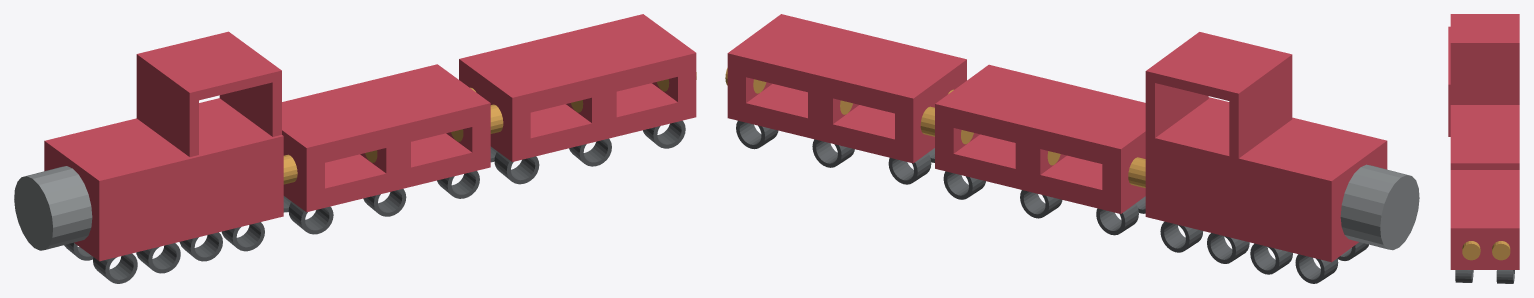
Rendered from Train.glb.
The picture shows the model from 3 angles, left to right: view 1: azimuth 30°, elevation 25°; view 2: azimuth 150°, elevation 25°; view 3: azimuth 270°, elevation 25°; orthographic projection. The views are drawn at different scales.
Parts seen in each view (by area): view 1: Mesh_Mesh_head_geo.001_lambert2SG.001; view 2: Mesh_Mesh_head_geo.001_lambert2SG.001; view 3: Mesh_Mesh_head_geo.001_lambert2SG.001.
Part boxes in pixels (box(x1,y1,x2,y2)): Mesh_Mesh_head_geo.001_lambert2SG.001: box(14, 14, 696, 283); Mesh_Mesh_head_geo.001_lambert2SG.001: box(725, 14, 1419, 283); Mesh_Mesh_head_geo.001_lambert2SG.001: box(1448, 14, 1519, 283).
Bounding box in the file's own units: 211 × 55.02 × 31.
